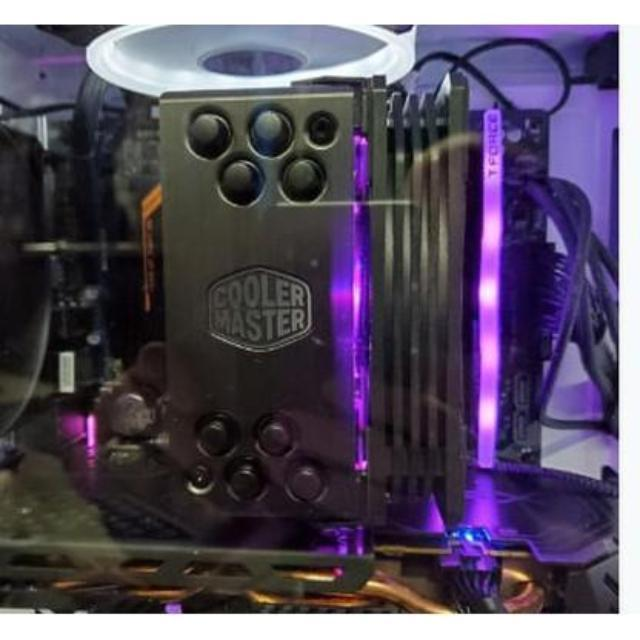CPU_Fan: (158, 86, 472, 531)
